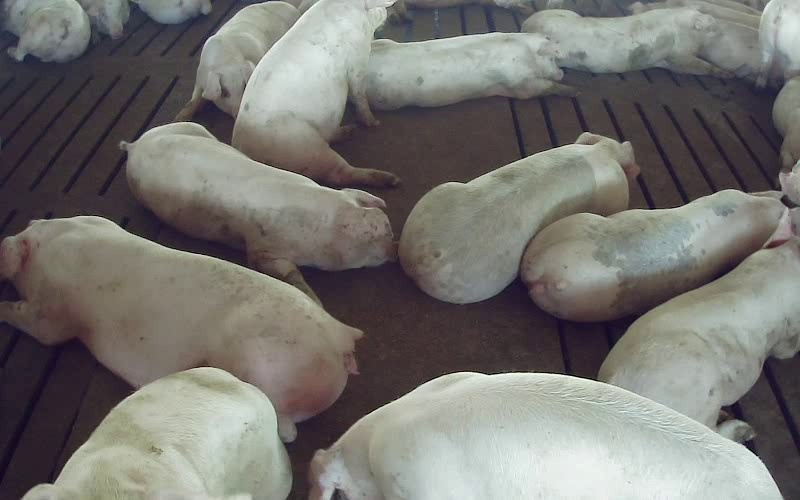pig: (310, 372, 780, 499), (121, 123, 395, 301), (598, 210, 799, 427), (399, 132, 638, 302), (23, 367, 291, 499), (521, 189, 785, 321), (232, 0, 398, 185), (368, 32, 574, 109), (174, 2, 300, 120), (522, 9, 725, 75)
